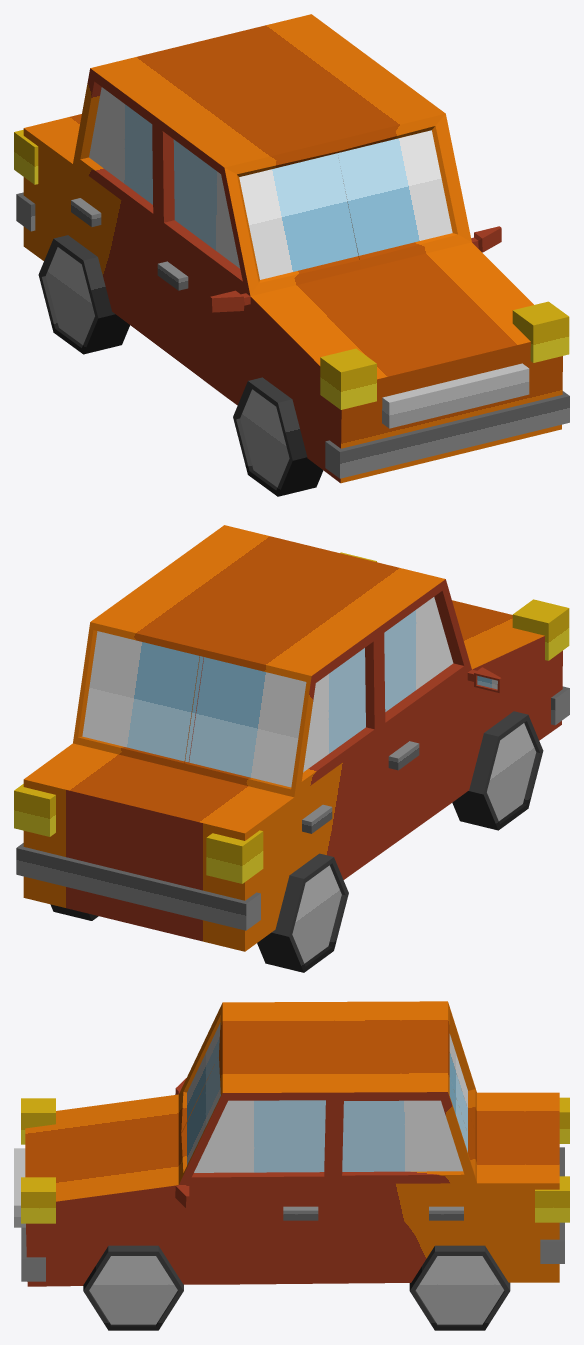
File: voiture.glb
3 renders of one model, top to bottom at view 1: azimuth 30°, elevation 25°; view 2: azimuth 150°, elevation 25°; view 3: azimuth 270°, elevation 25°, orthographic. The views are drawn at different scales.
Parts seen in each view (by area): view 1: Cube; view 2: Cube; view 3: Cube.
Boxes of the visible parts, x1,y1,x2,y2 form: Cube: (14, 14, 569, 496); Cube: (14, 525, 569, 972); Cube: (14, 1001, 569, 1330).
Bounding box in the file's own units: 2.58 × 2.36 × 5.12.
Materials: 1 (1 with a texture image).
